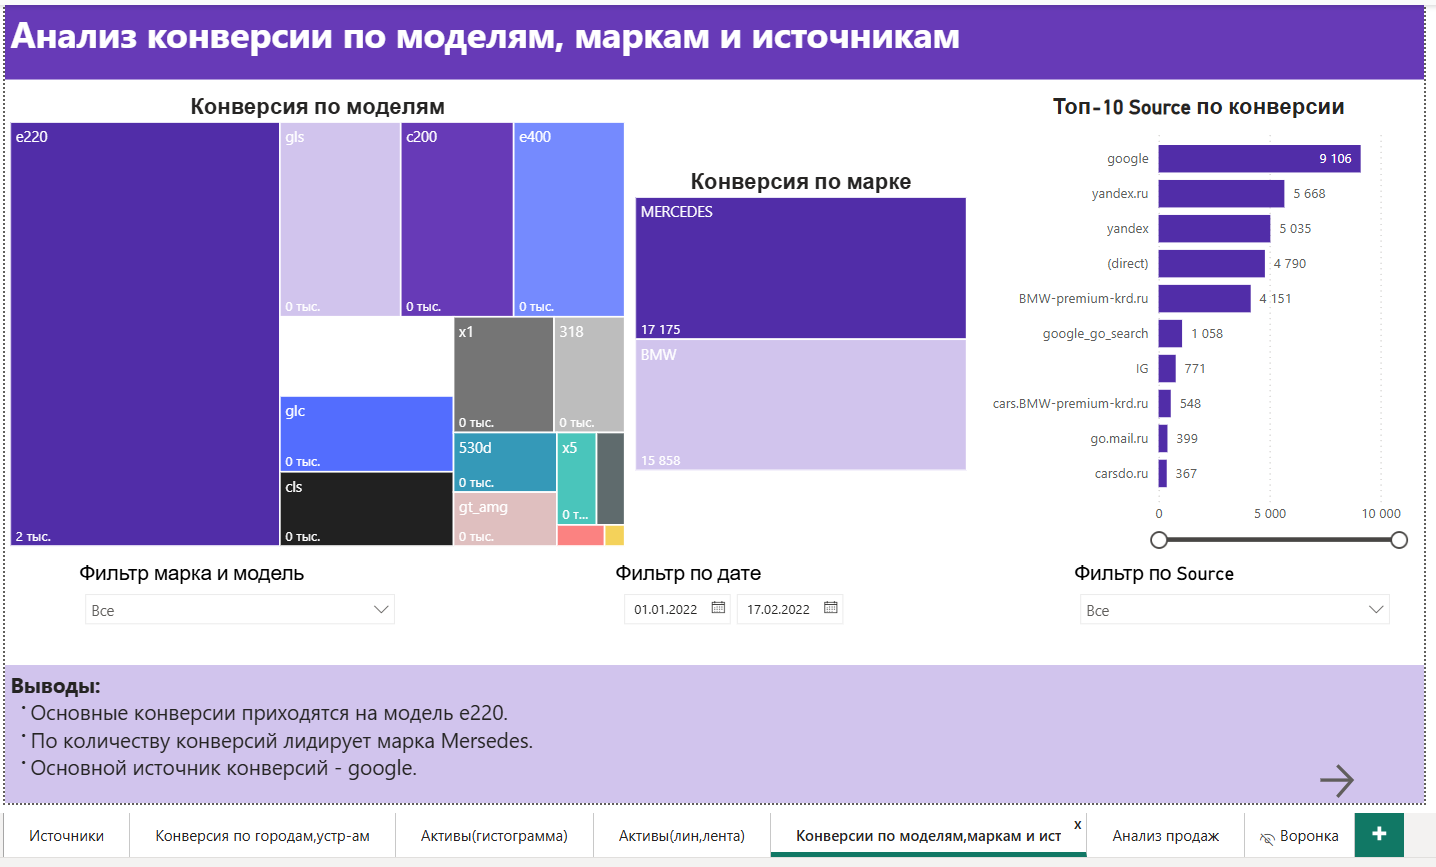

This screenshot's page, from the dashboard's own definition file:
{"tool":"powerbi","page":{"name":"Конверсии по моделям,маркам и ист","canvas":[1280,720],"ordinal":4},"visuals":[{"type":"textbox","box":[0,0,1280.3,67.2],"z":0},{"type":"treemap","title":"Конверсия по моделям","fields":{"Group":["Маркетинговые данные.Чистая_Модель_Норм"],"Values":["Sum(Маркетинговые данные.Конверсия)"]},"box":[0,79.6,564,413],"z":1000},{"type":"textbox","box":[0,595.5,1280.3,124.7],"z":2000},{"type":"treemap","title":"Конверсия по марке","fields":{"Group":["Маркетинговые данные.Марка из домена"],"Values":["Sum(Маркетинговые данные.Конверсия)"]},"box":[564,148.2,308.7,277.2],"z":3000},{"type":"clusteredBarChart","title":"Топ-10 Source по конверсии","fields":{"Y":["Sum(Маркетинговые данные.Конверсия)"],"Category":["Маркетинговые данные.Источник перехода"]},"box":[872.7,79.6,407.5,413],"z":4000},{"type":"slicer","title":"Фильтр марка и модель","fields":{"Values":["Маркетинговые данные.Марка из домена","Маркетинговые данные.Чистая_Модель_Норм"]},"box":[62.4,501.4,299.6,70.9],"z":5000},{"type":"slicer","title":"Фильтр по Source","fields":{"Values":["Маркетинговые данные.Источник перехода"]},"box":[958.7,501.4,299.6,70.9],"z":6000},{"type":"slicer","title":"Фильтр по дате","fields":{"Values":["Маркетинговые данные.Дата"]},"box":[545.4,501.4,299.6,70.9],"z":7000},{"type":"actionButton","box":[1180,679.6,56.4,40.5],"z":8000}]}

Visuals, with their boxes on the page's 1280x720 design canvas (x1, y1, x2, y2). These are canvas units, not pixel positions in the 1436x867 screenshot, which may show the page scaled, cropped or inside an application window:
textbox: Rect(0, 0, 1280, 67)
"Конверсия по моделям" treemap: Rect(0, 80, 564, 493)
textbox: Rect(0, 596, 1280, 720)
"Конверсия по марке" treemap: Rect(564, 148, 873, 425)
"Топ-10 Source по конверсии" clusteredBarChart: Rect(873, 80, 1280, 493)
"Фильтр марка и модель" slicer: Rect(62, 501, 362, 572)
"Фильтр по Source" slicer: Rect(959, 501, 1258, 572)
"Фильтр по дате" slicer: Rect(545, 501, 845, 572)
actionButton: Rect(1180, 680, 1236, 720)
